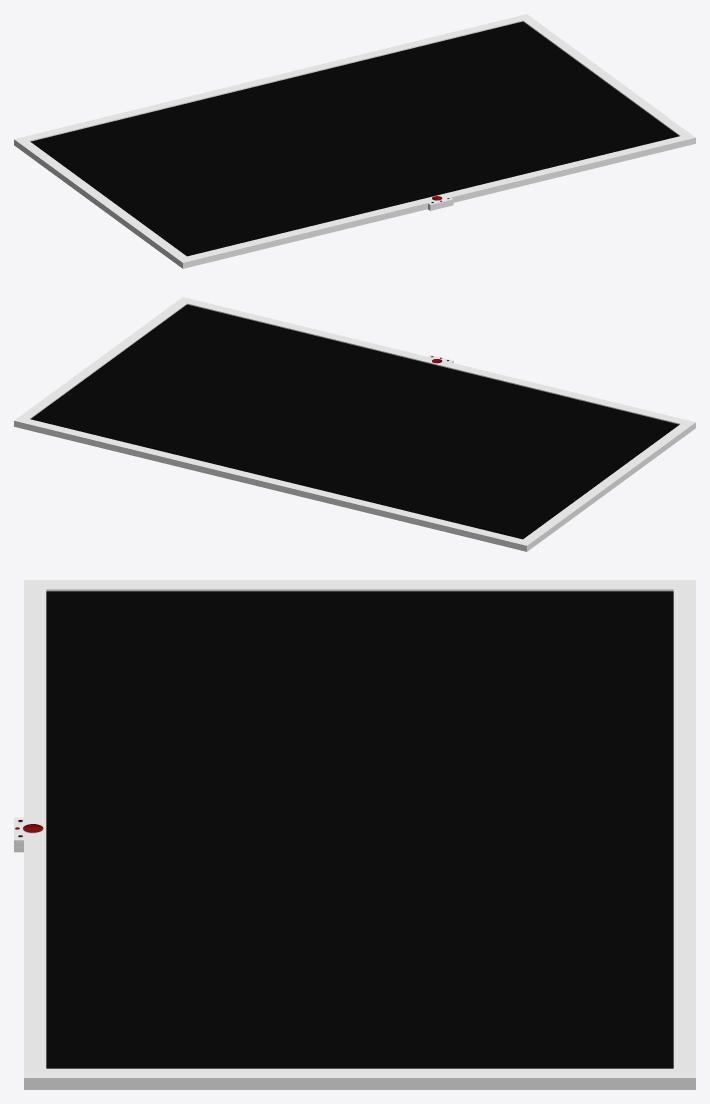
The picture shows the model from 3 angles, top to bottom: view 1: azimuth 30°, elevation 25°; view 2: azimuth 150°, elevation 25°; view 3: azimuth 270°, elevation 25°; orthographic projection. The views are drawn at different scales.
Parts seen in each view (by area): view 1: SketchUp (×3); view 2: SketchUp (×3); view 3: SketchUp (×3).
Boxes of the visible parts, bbox=[...] form: SketchUp (×3): bbox=[14, 14, 695, 268]; SketchUp (×3): bbox=[14, 297, 695, 551]; SketchUp (×3): bbox=[14, 580, 695, 1089].
Size of the model in its own units: 532 by 308 by 6.31.
Materials: 3 (1 with a texture image).
